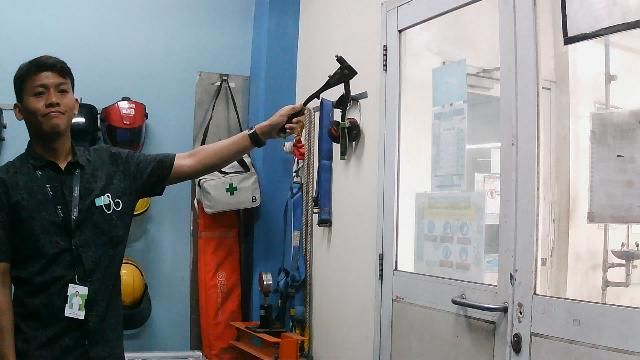tang_rivet: (277, 53, 371, 160)
